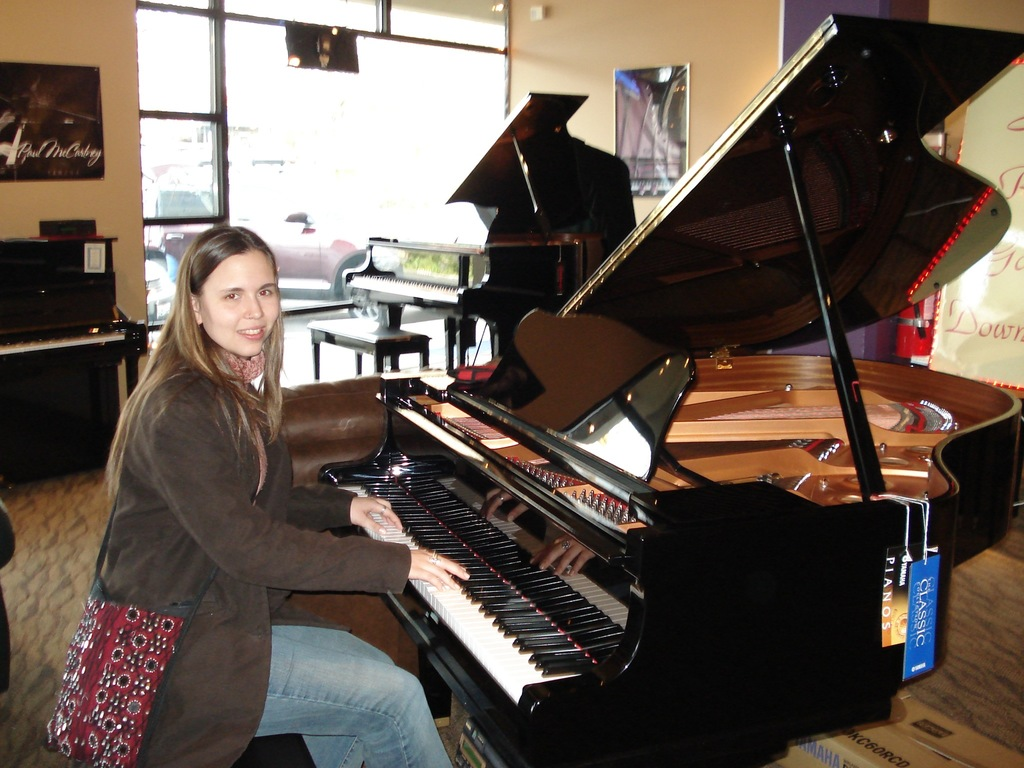Person: (44, 224, 469, 768)
